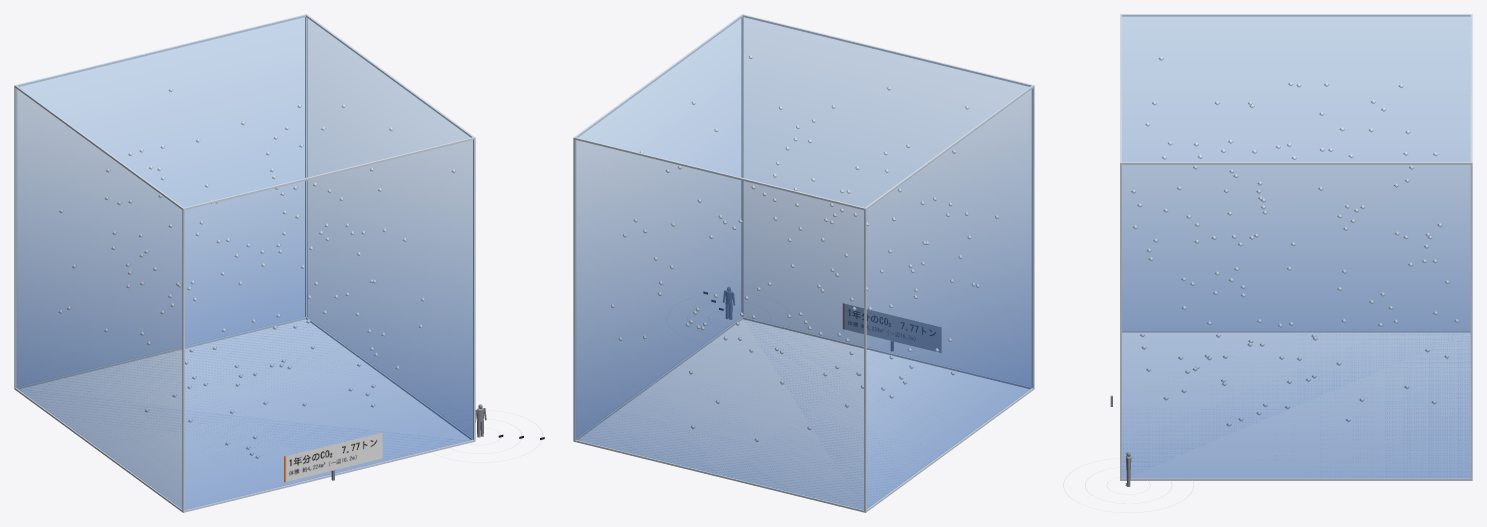
Rendered from cube_year.glb.
3 views of the same model, side by side, from view 1: azimuth 30°, elevation 25°; view 2: azimuth 150°, elevation 25°; view 3: azimuth 270°, elevation 25° (orthographic). The views are drawn at different scales.
Parts seen in each view (by area): view 1: co2, edge, label, dots; view 2: co2, edge, label, dots; view 3: co2, edge, dots, white.
Part boxes in pixels (box(x1,y1,x2,y2)): co2: box(16, 15, 472, 509); edge: box(14, 14, 475, 512); label: box(284, 432, 382, 482); dots: box(59, 88, 455, 458); co2: box(576, 15, 1032, 509); edge: box(573, 14, 1034, 512); label: box(843, 303, 941, 352); dots: box(611, 55, 999, 441); co2: box(1121, 15, 1471, 478); edge: box(1120, 14, 1472, 480); dots: box(1131, 56, 1459, 426); white: box(1063, 457, 1193, 512).
Size of the model in its own units: 19.78 by 16.16 by 18.88.
8 materials, 3 textured.
